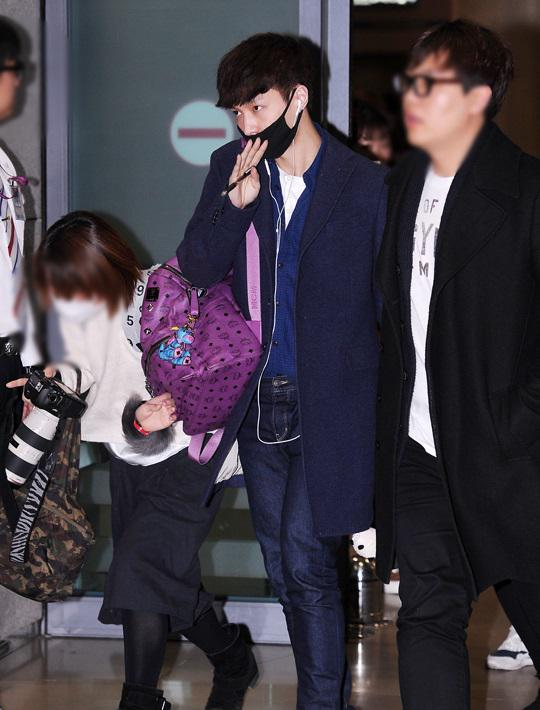NONE: (402, 61, 473, 146), (1, 49, 25, 121)
WRONG: (224, 82, 302, 160)
